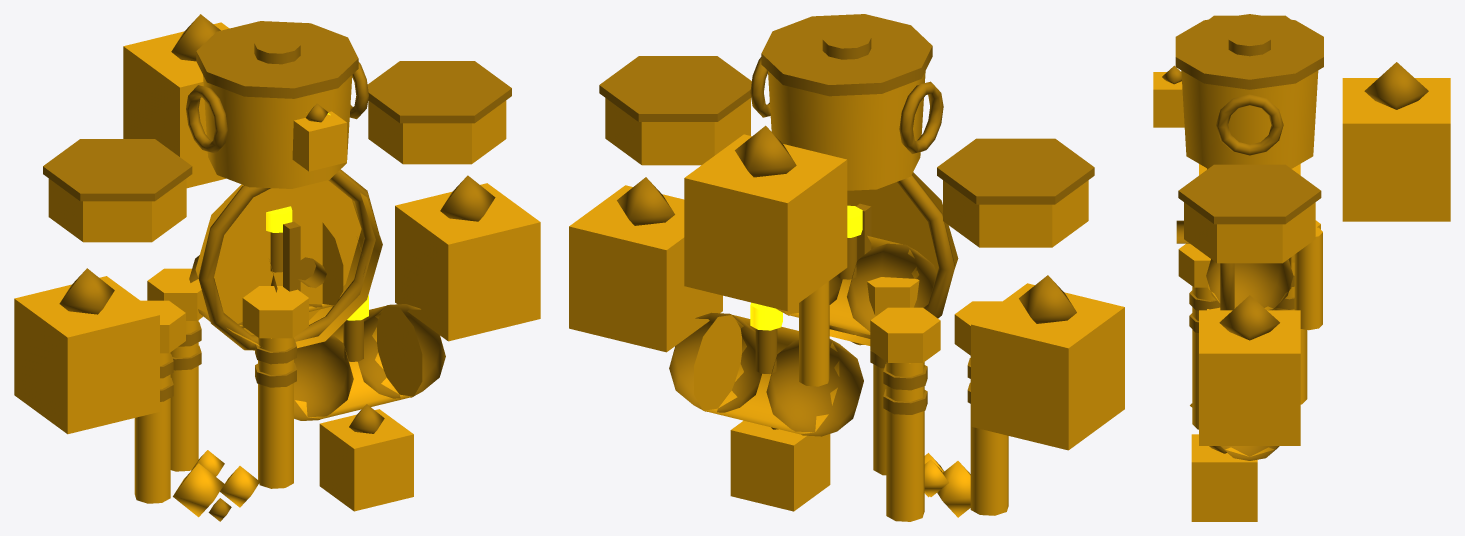
Rendered from golem_076.glb.
The picture shows the model from 3 angles, left to right: view 1: azimuth 30°, elevation 25°; view 2: azimuth 150°, elevation 25°; view 3: azimuth 270°, elevation 25°; orthographic projection. The views are drawn at different scales.
Parts seen in each view (by area): view 1: Body, Detail, Glow; view 2: Body, Detail, Glow; view 3: Body, Detail.
Part boxes in pixels (x1,y1,x2,y2): Body: (14, 22, 540, 517); Detail: (43, 14, 511, 521); Glow: (266, 113, 368, 320); Body: (569, 71, 1124, 521); Detail: (599, 14, 1094, 436); Glow: (750, 205, 862, 330); Body: (1153, 70, 1450, 521); Detail: (1162, 14, 1428, 460).
Bounding box in the file's own units: 1.43 × 1.32 × 0.8149.
